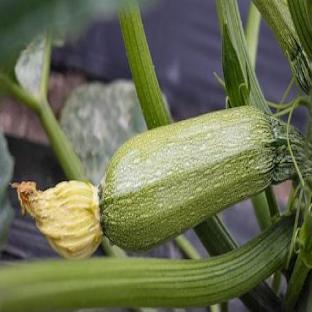Zucchini: (18, 107, 295, 257), (0, 216, 293, 311)
